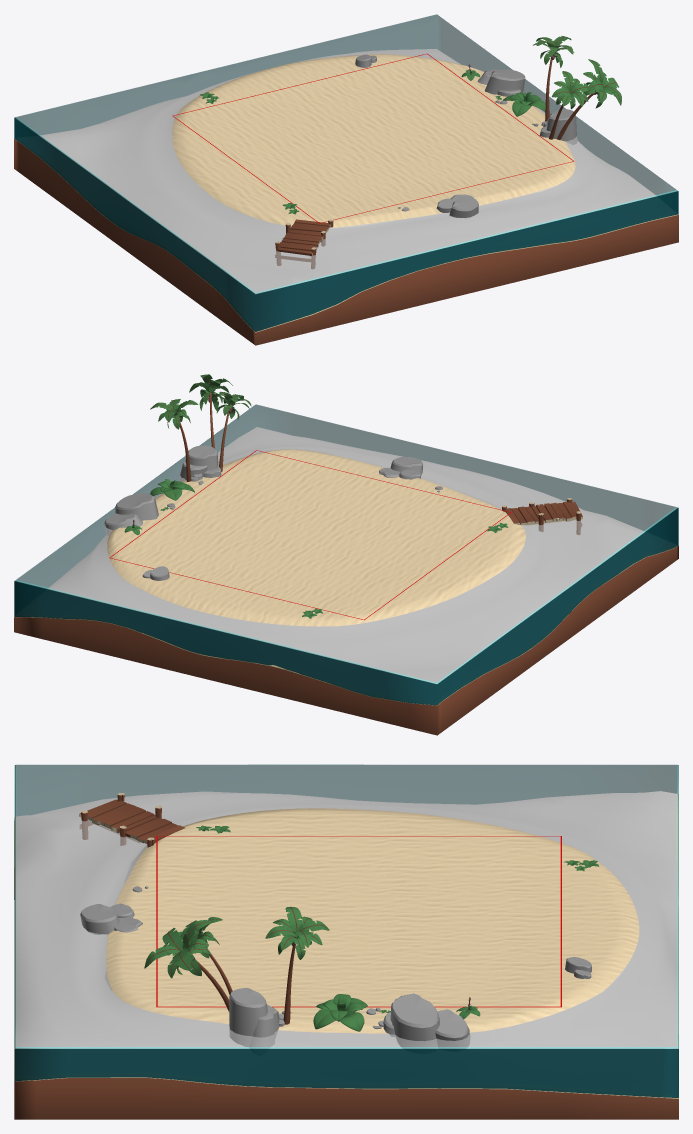
Rendered from all01.fbx.
The picture shows the model from 3 angles, top to bottom: view 1: azimuth 30°, elevation 25°; view 2: azimuth 150°, elevation 25°; view 3: azimuth 270°, elevation 25°; orthographic projection. The views are drawn at different scales.
Parts seen in each view (by area): view 1: Ground, Water, Jetty; view 2: Ground, Water, Jetty; view 3: Ground, Water, Jetty.
Boxes of the visible parts, <box> form: Ground: <box>14,49,678,345</box>; Water: <box>14,14,678,331</box>; Jetty: <box>172,36,621,268</box>; Ground: <box>14,427,678,735</box>; Water: <box>14,404,678,705</box>; Jetty: <box>104,374,582,620</box>; Ground: <box>14,791,678,1119</box>; Water: <box>14,764,678,1097</box>; Jetty: <box>79,793,599,1048</box>.
Size of the model in its own units: 6.7 by 2.05 by 6.59.
